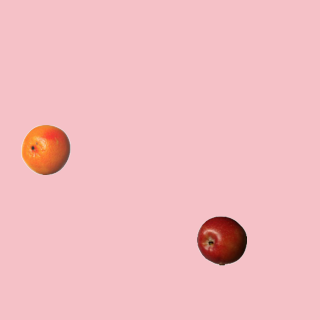Apple Braeburn: (196, 215, 246, 265)
Grapefruit Pink: (20, 124, 70, 174)
